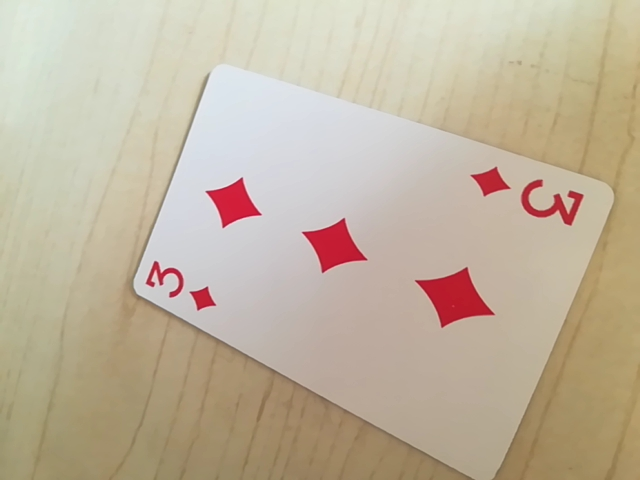fk 3: (464, 168, 587, 231), (136, 254, 216, 312)
